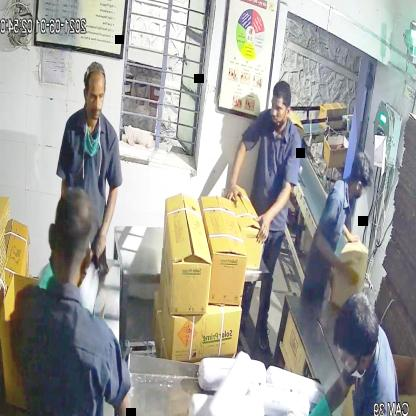no_goggles: (83, 82, 107, 108)
